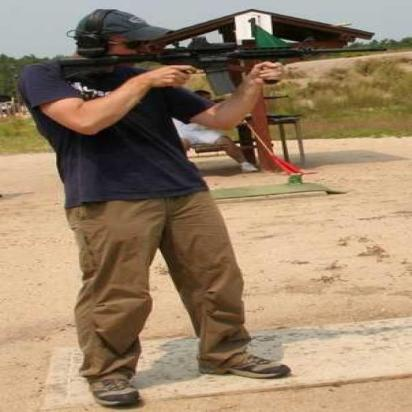Gun: (45, 32, 401, 109)
